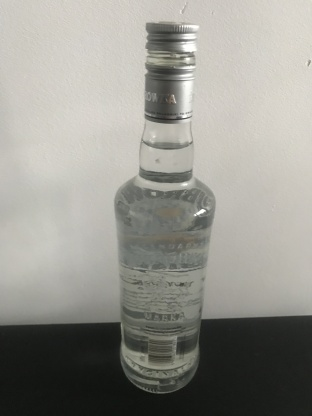nakretka: (142, 17, 200, 124)
